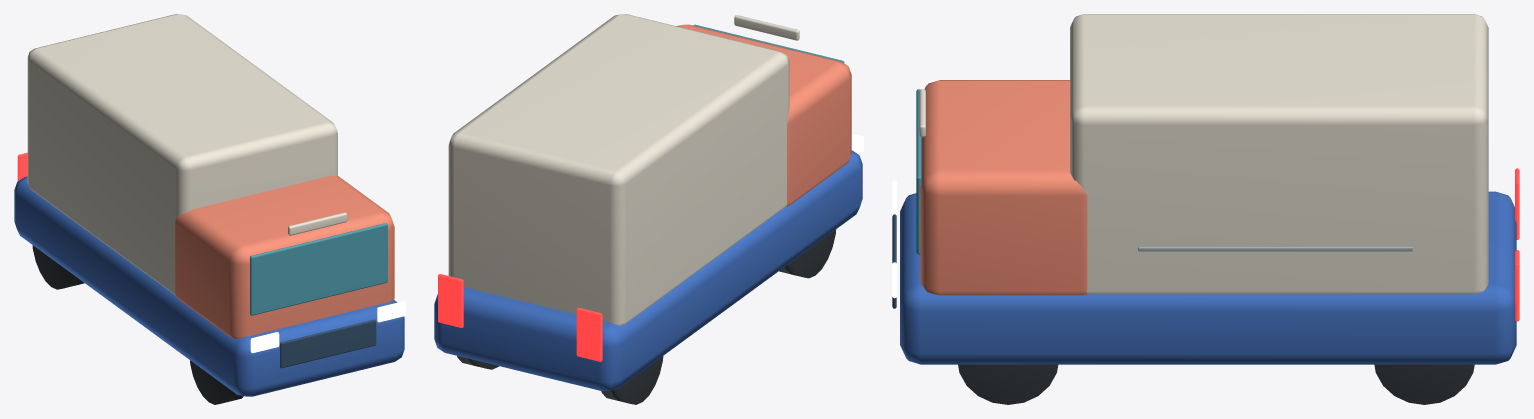
Rendered from HL_Van_Delivery.fbx.
3 renders of one model, left to right at view 1: azimuth 30°, elevation 25°; view 2: azimuth 150°, elevation 25°; view 3: azimuth 270°, elevation 25°, orthographic. The views are drawn at different scales.
Parts seen in each view (by area): view 1: Van | high cargo enclosure, Van | rolling chassis, Van | cab shell, Van | windshield, Van | grille, Van | tyre, Van | tyre.001, Van | cargo emblem, Van | headlamp, Van | headlamp.001; view 2: Van | high cargo enclosure, Van | rolling chassis, Van | cab shell, Van | taillamp, Van | taillamp.001, Van | tyre.001, Van | tyre, Van | cargo emblem; view 3: Van | high cargo enclosure, Van | rolling chassis, Van | cab shell, Van | tyre.002, Van | tyre.003, Van | sliding door track, Van | windshield.
Boxes of the visible parts, x1,y1,x2,y2 form: Van | high cargo enclosure: [27, 14, 337, 295]; Van | rolling chassis: [14, 176, 404, 396]; Van | cab shell: [175, 175, 394, 338]; Van | windshield: [250, 223, 387, 315]; Van | grille: [280, 319, 376, 368]; Van | tyre: [190, 360, 243, 404]; Van | tyre.001: [32, 245, 84, 289]; Van | cargo emblem: [288, 212, 347, 235]; Van | headlamp: [250, 332, 279, 353]; Van | headlamp.001: [377, 301, 405, 322]; Van | high cargo enclosure: [448, 14, 789, 325]; Van | rolling chassis: [434, 150, 862, 390]; Van | cab shell: [676, 24, 851, 206]; Van | taillamp: [576, 307, 602, 361]; Van | taillamp.001: [438, 274, 463, 327]; Van | tyre.001: [601, 356, 663, 404]; Van | tyre: [779, 229, 836, 278]; Van | cargo emblem: [734, 15, 799, 40]; Van | high cargo enclosure: [1070, 14, 1488, 294]; Van | rolling chassis: [900, 191, 1516, 364]; Van | cab shell: [920, 80, 1087, 295]; Van | tyre.002: [958, 364, 1058, 404]; Van | tyre.003: [1374, 364, 1474, 404]; Van | sliding door track: [1138, 246, 1412, 251]; Van | windshield: [916, 89, 921, 254].
Bounding box in the file's own units: 212 × 267 × 514.
